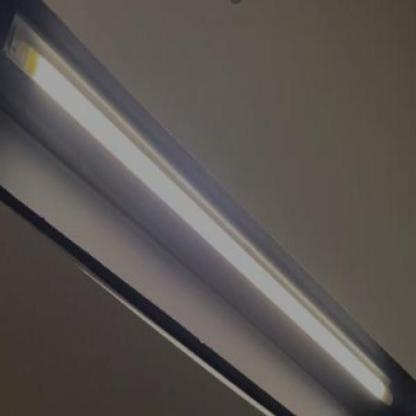light_on: (0, 7, 404, 415)
